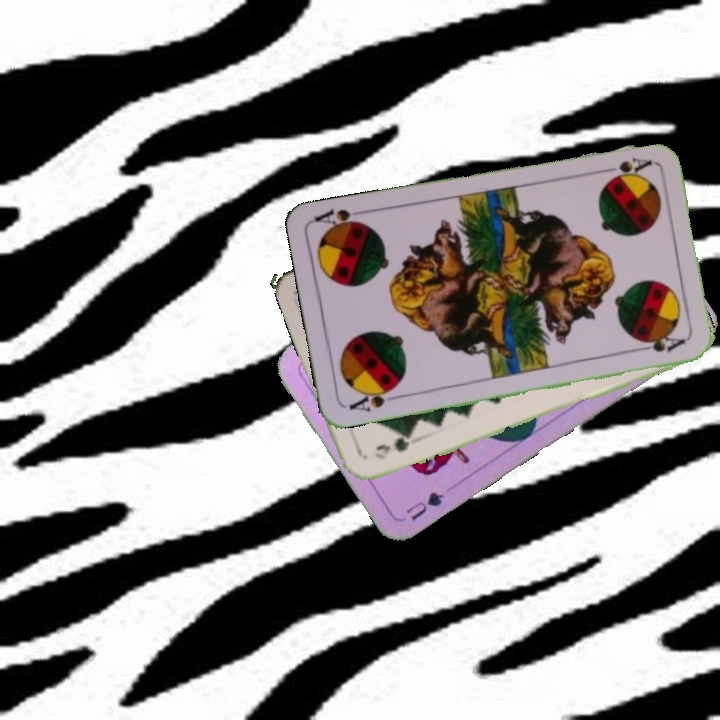G9: (371, 430, 416, 463)
GU: (401, 487, 447, 524)
SA: (344, 382, 402, 414), (596, 153, 655, 184)
